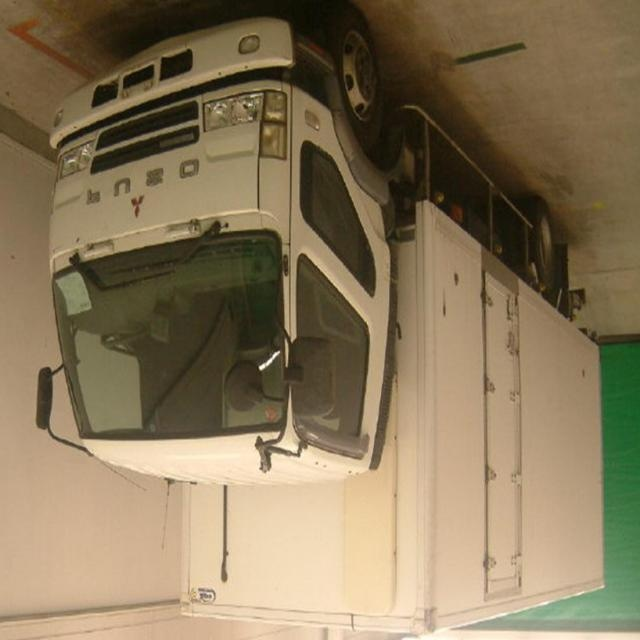Truck: (40, 19, 603, 636)
